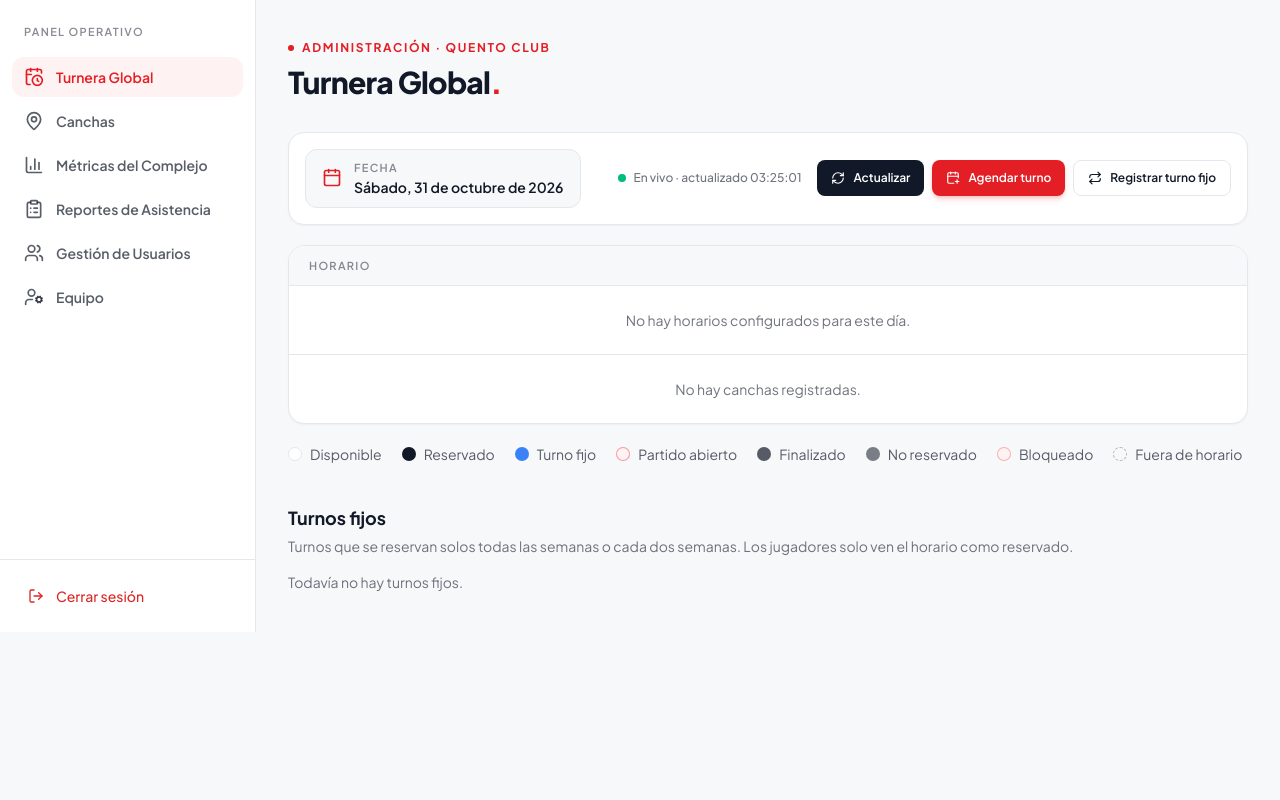
Scenario: AdminPanel › el botón Registrar turno fijo está junto a Actualizar y abre el alta
This screenshot has width=1280, height=800.
Click the button "Registrar turno fijo": coordinates (1152, 178) [1073,160,1231,196]
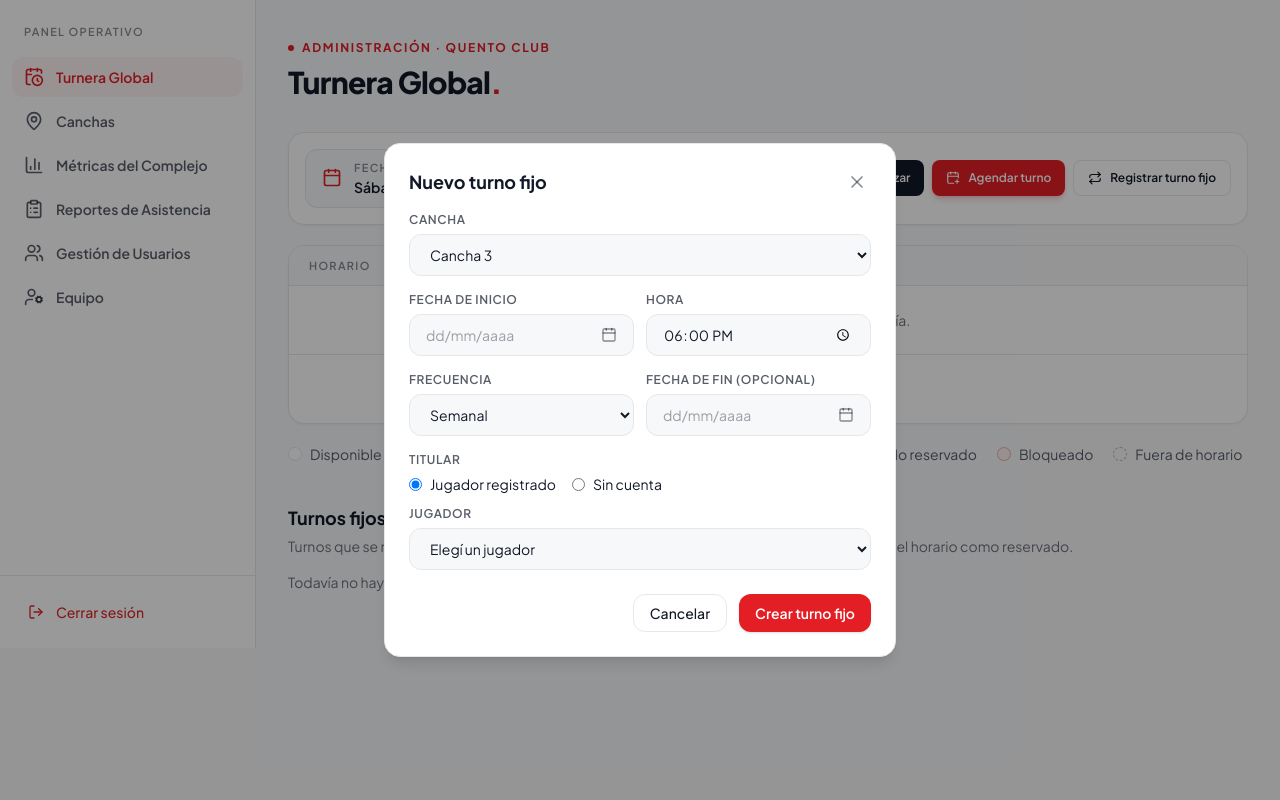
Now the heading "Nuevo turno fijo" is shown, box [409,168,547,196]
